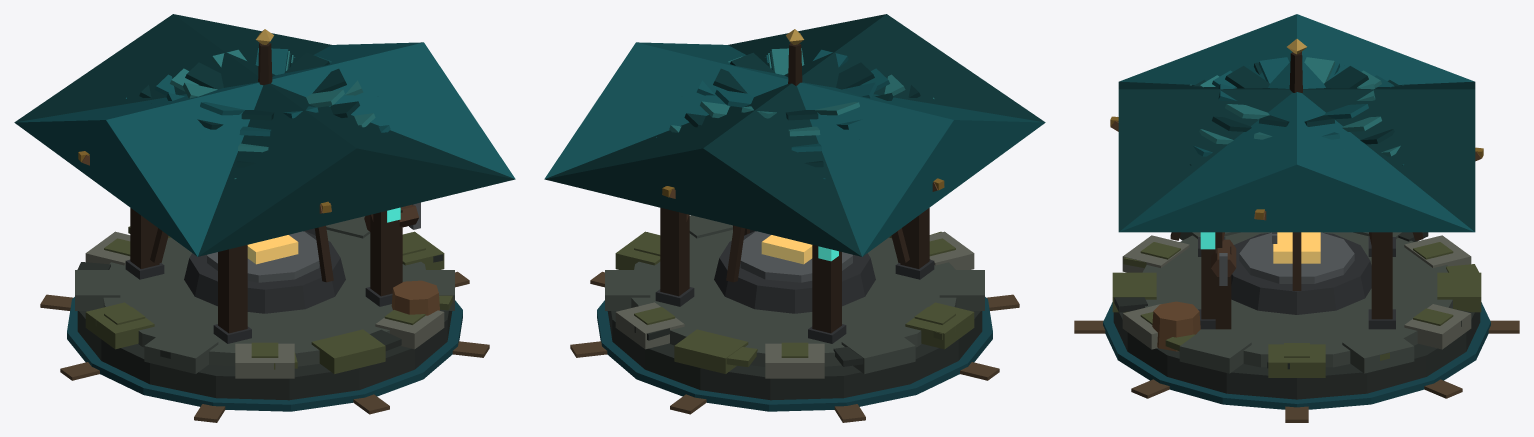
File: fenbridge_mirelight_cistern.glb
3 renders of one model, left to right at view 1: azimuth 30°, elevation 25°; view 2: azimuth 150°, elevation 25°; view 3: azimuth 270°, elevation 25°, orthographic. The views are drawn at different scales.
Visible parts, largest first — view 1: FenbridgeMirelightCistern_FenbridgeOpaque, FenbridgeMirelightCistern_FenbridgeEmissive; view 2: FenbridgeMirelightCistern_FenbridgeOpaque, FenbridgeMirelightCistern_FenbridgeEmissive; view 3: FenbridgeMirelightCistern_FenbridgeOpaque, FenbridgeMirelightCistern_FenbridgeEmissive.
Boxes of the visible parts, x1,y1,x2,y2 form: FenbridgeMirelightCistern_FenbridgeOpaque: (14, 14, 515, 422); FenbridgeMirelightCistern_FenbridgeEmissive: (247, 207, 400, 264); FenbridgeMirelightCistern_FenbridgeOpaque: (544, 14, 1045, 422); FenbridgeMirelightCistern_FenbridgeEmissive: (761, 235, 838, 264); FenbridgeMirelightCistern_FenbridgeOpaque: (1074, 14, 1519, 422); FenbridgeMirelightCistern_FenbridgeEmissive: (1200, 232, 1320, 263).
Bounding box in the file's own units: 3.6 × 2.6 × 3.6.
